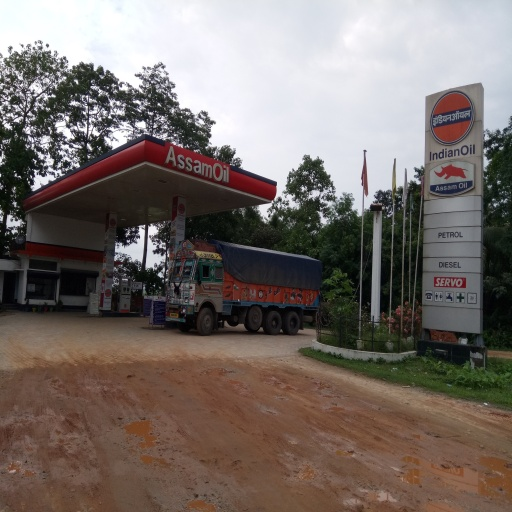roof: (25, 135, 276, 220)
